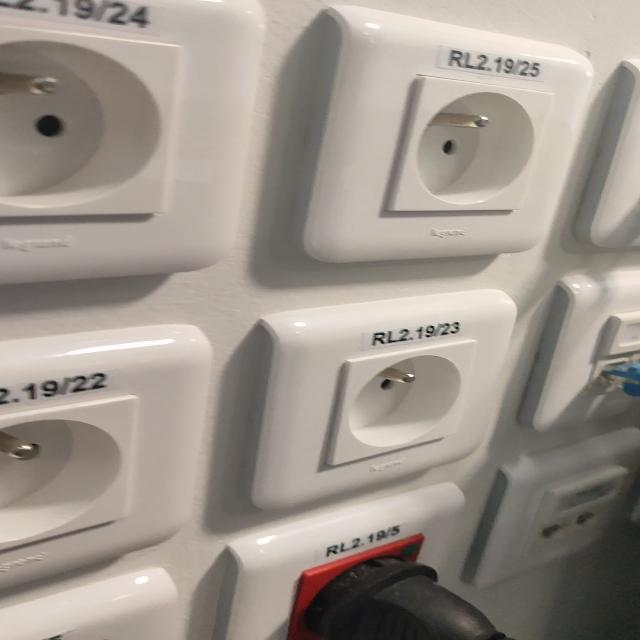house plug: (0, 24, 185, 216), (391, 77, 554, 212), (0, 395, 135, 552), (331, 340, 476, 467)
